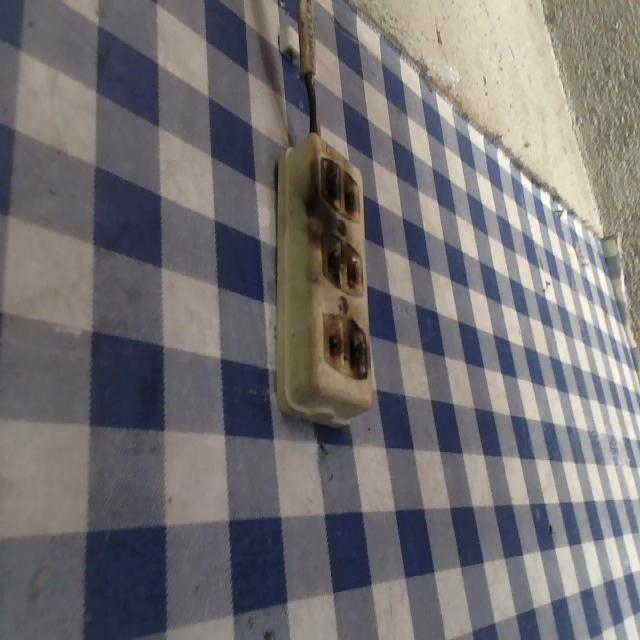-: (319, 308, 371, 384), (315, 149, 363, 224), (318, 227, 365, 296)
